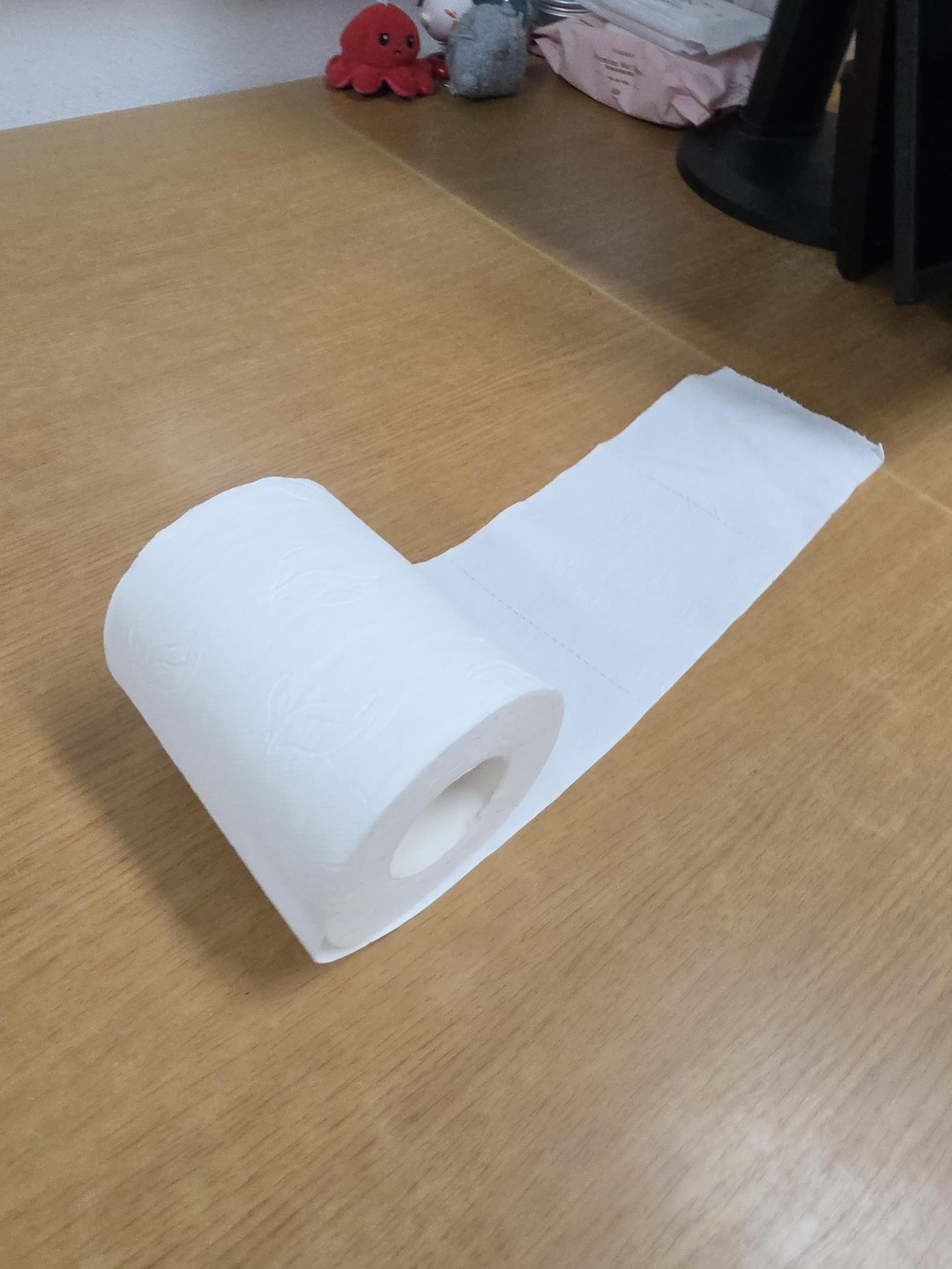tissue: (101, 365, 886, 965)
